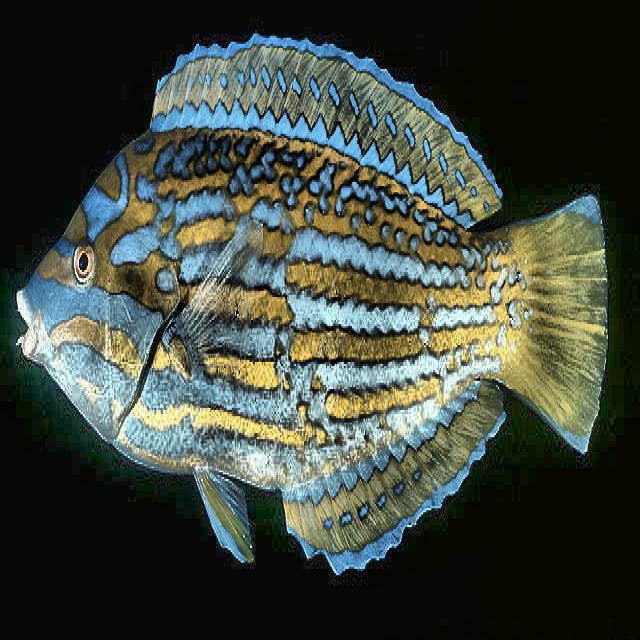fish: (16, 35, 602, 578)
